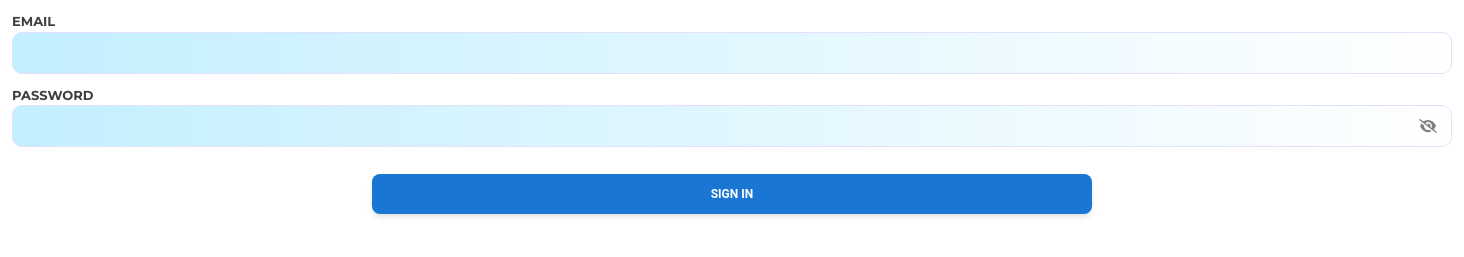
Test case: Login Form › should show email validation errors on blur
Type "john_doe" into the field labelled "Email" at (732, 52), box [12,32,1452,74]
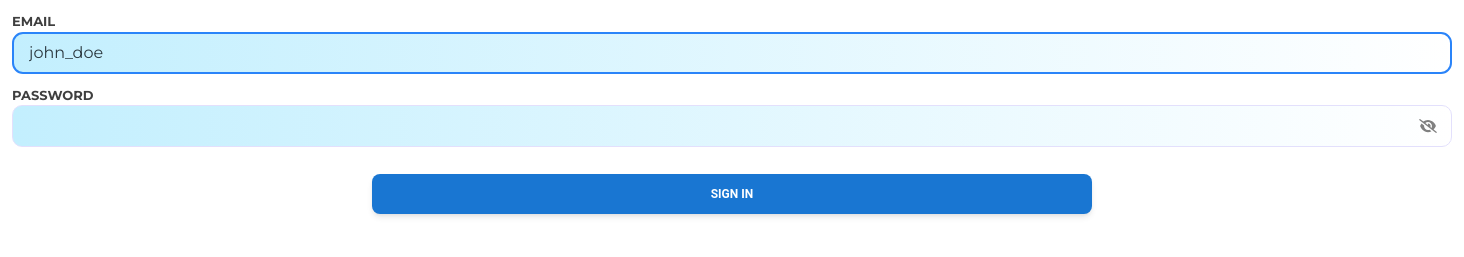
Press Tab
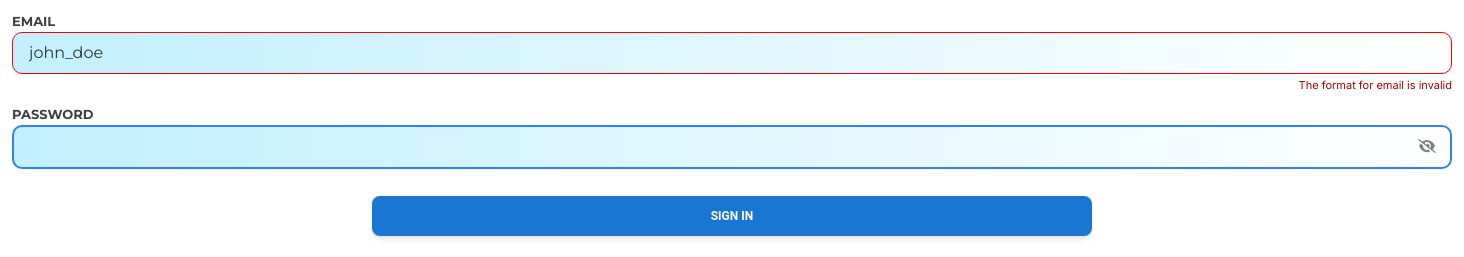
Result: the message reads "The format for email is invalid" at [1299,78,1452,92]
